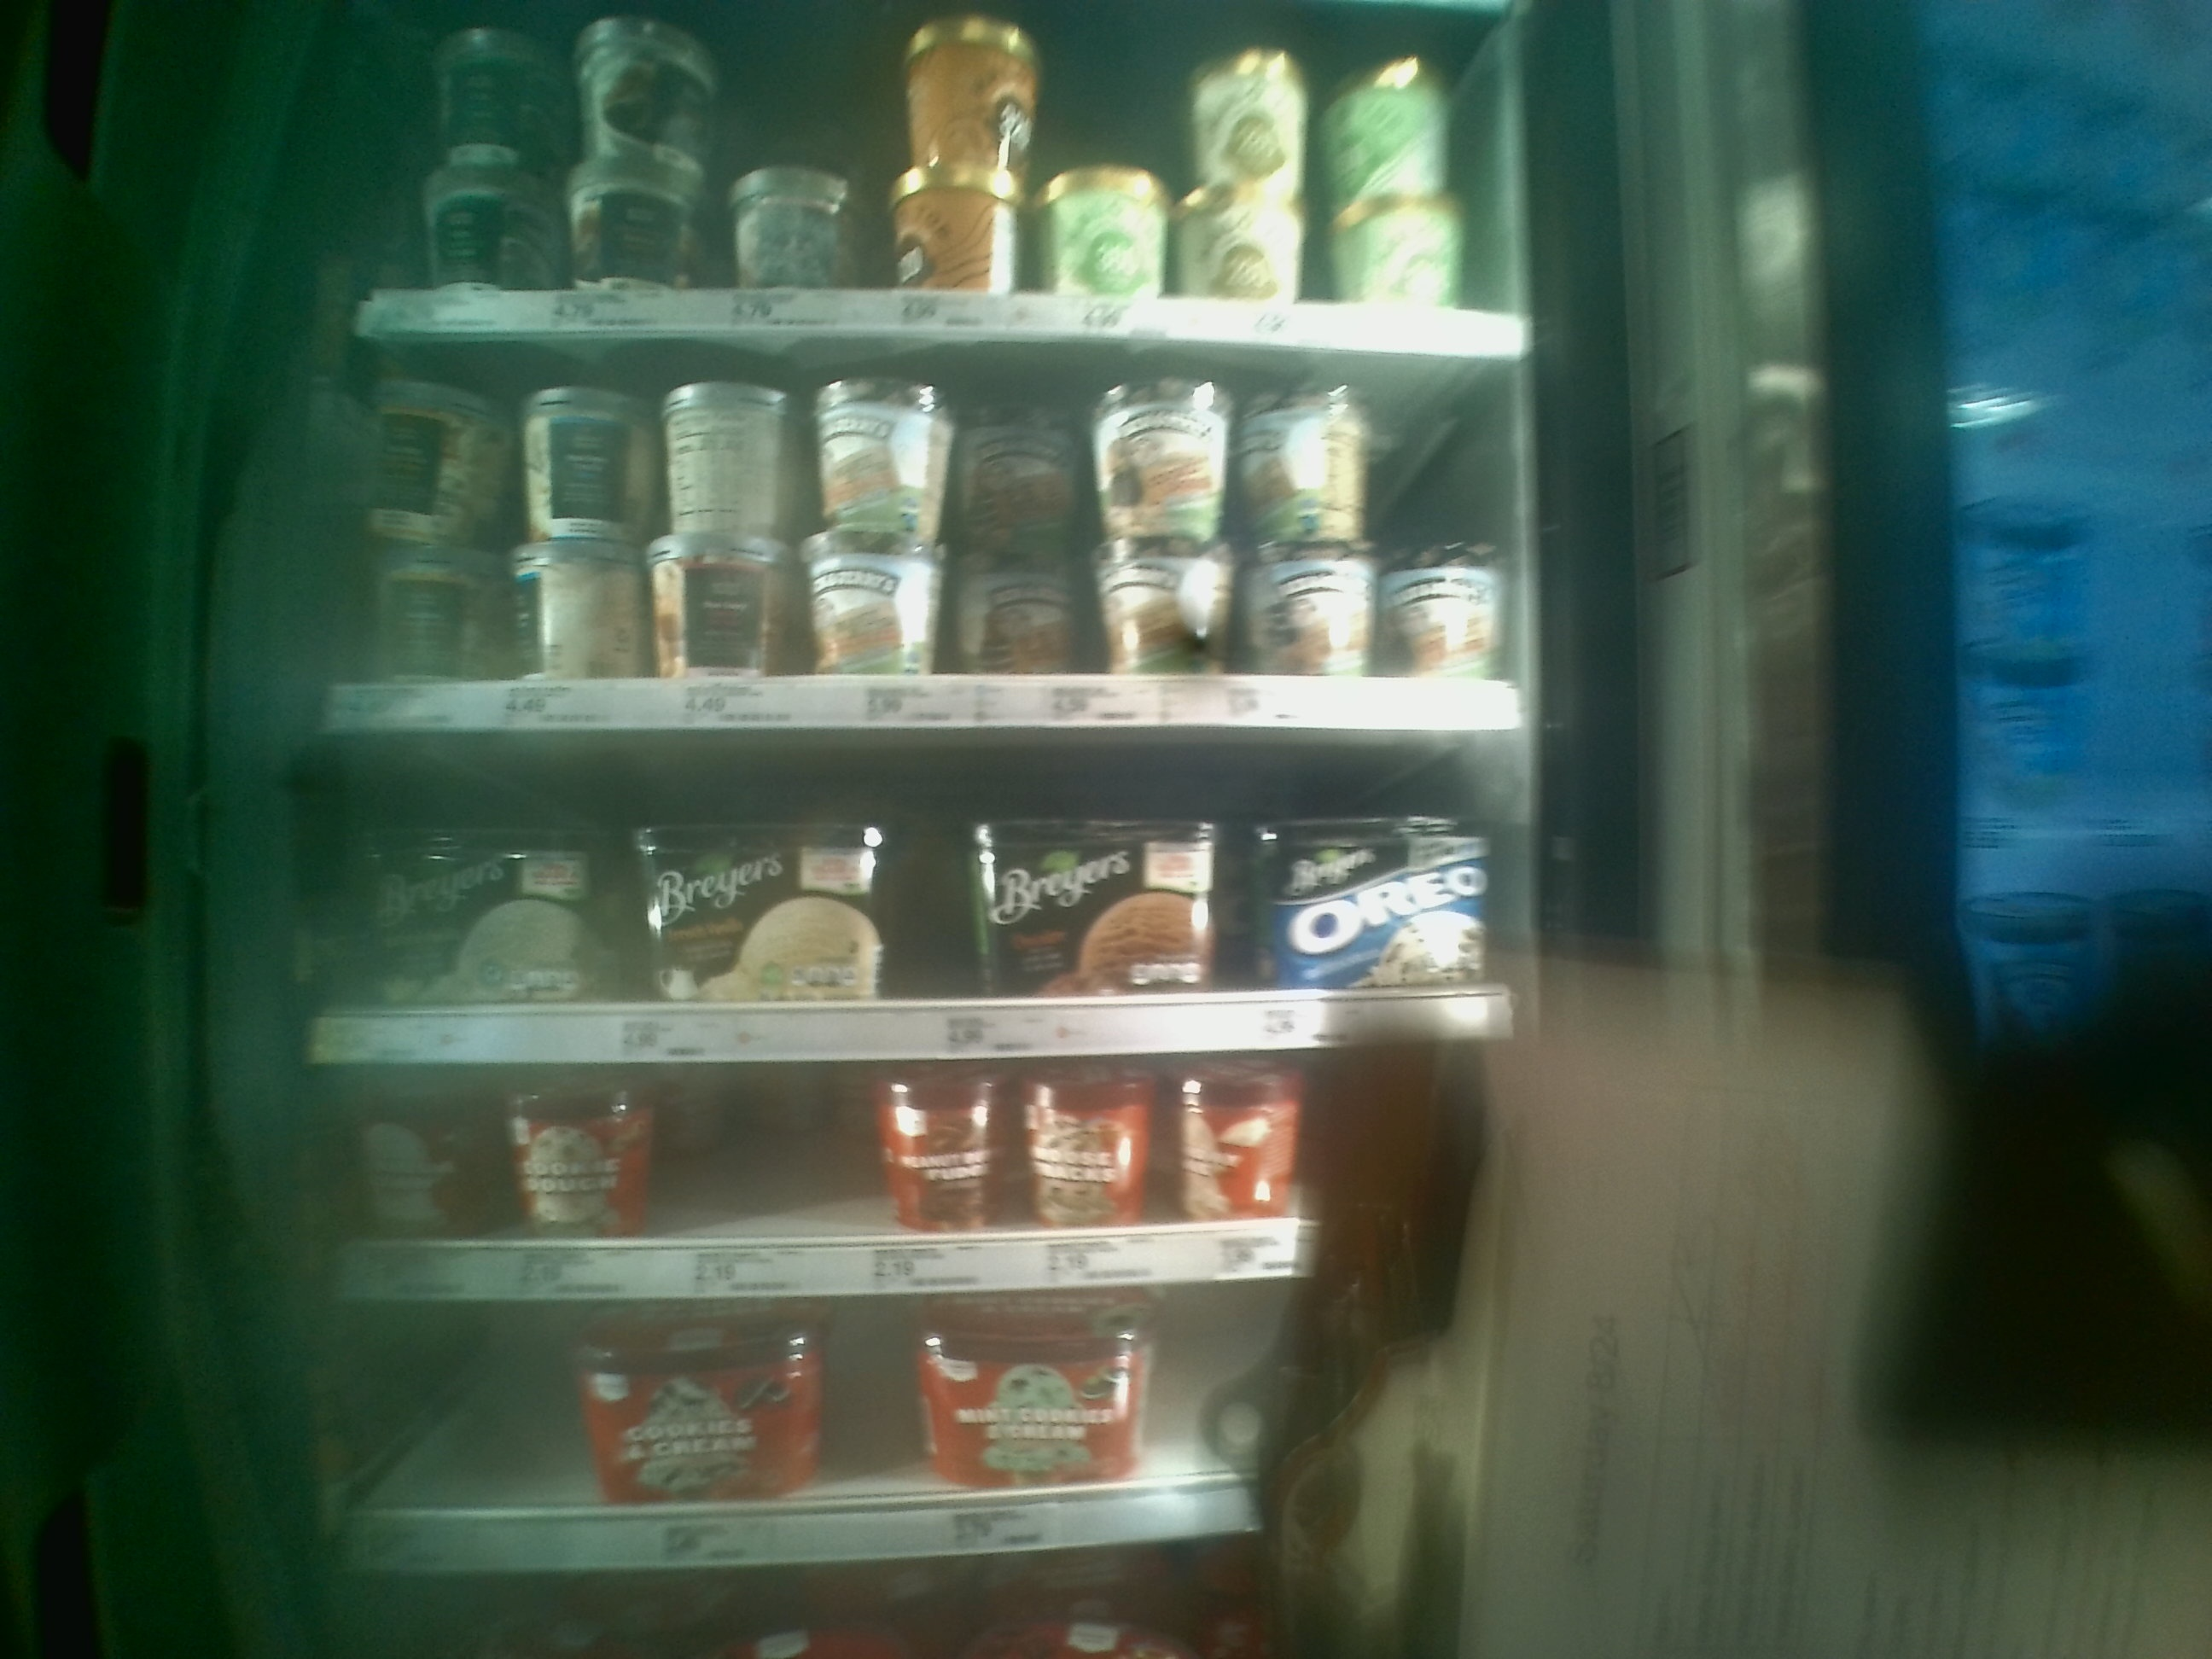shelf: (320, 328, 1519, 732), (310, 734, 1538, 1058)
